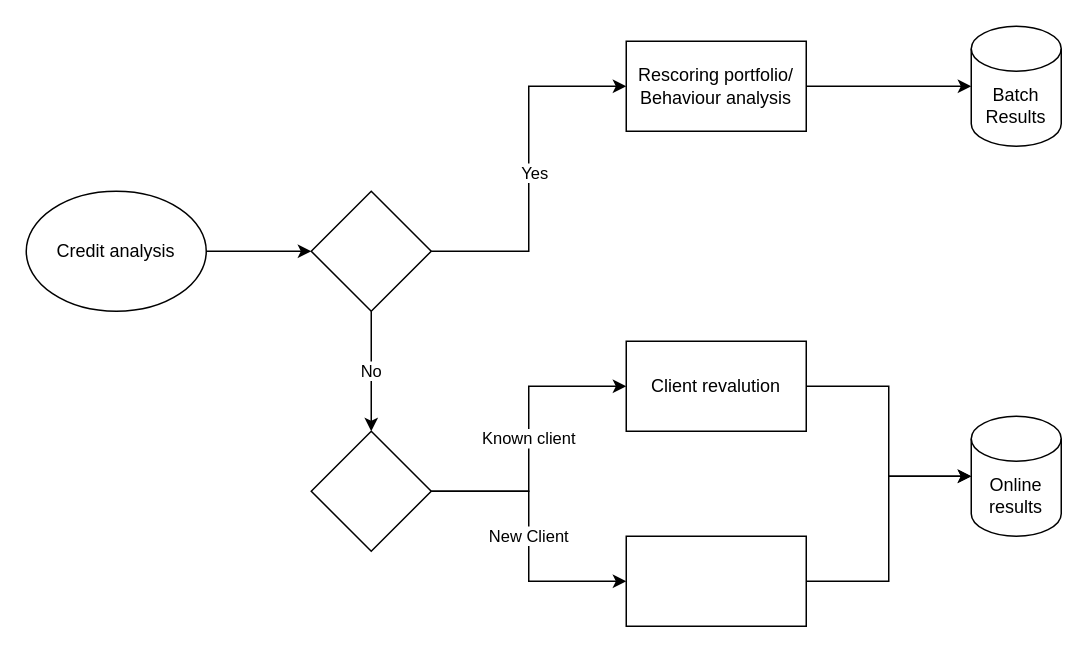
This 1088x653 diagram has some shape labels left out. Here are the shapes that lost their labels. From the top down, the centre of each, then its label:
At (x=370, y=250): "Existing Credit?".
At (x=370, y=490): "Application source".
At (x=715, y=580): "Client evalution".
